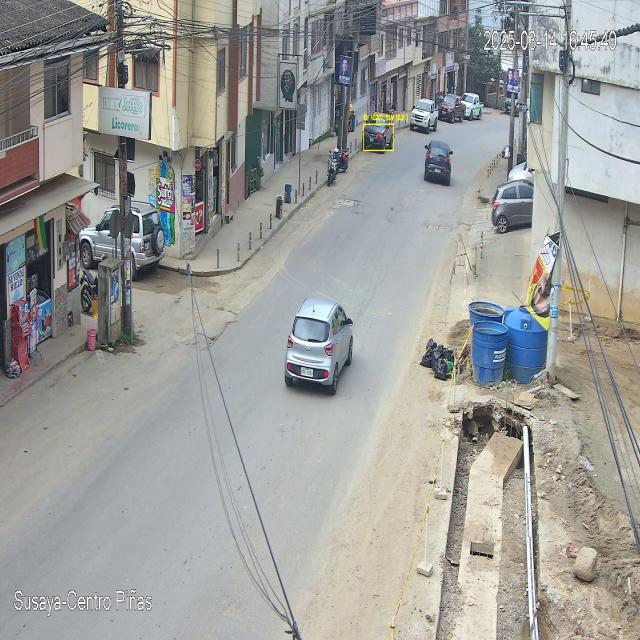SED: (284, 299, 354, 397)
SUV: (78, 204, 167, 282)
